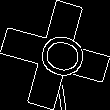O_W: (24, 27, 86, 83)
